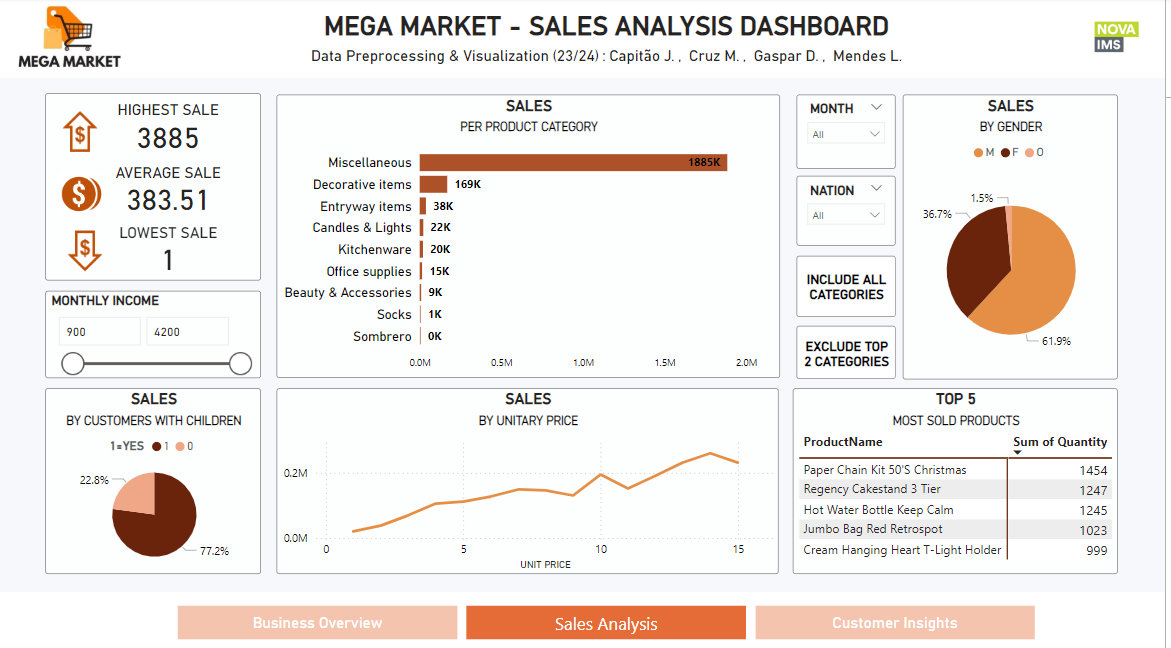

This screenshot's page, from the dashboard's own definition file:
{"tool":"powerbi","page":{"name":"Sales Analysis","canvas":[1280,720],"ordinal":1},"visuals":[{"type":"basicShape","box":[51.4,105.7,237.1,205.7],"z":0,"group":"g1"},{"type":"shape","box":[0,652.9,1280,67.1],"z":0},{"type":"shape","box":[0,0,1280,88.6],"z":1000},{"type":"pageNavigator","box":[195.7,668.6,942.9,37.1],"z":2000},{"type":"image","box":[1198.6,20,58.6,47.1],"z":3000},{"type":"image","box":[10,0,135.7,88.6],"z":4000},{"type":"group","id":"g1","title":"KPI","box":[51.4,105.7,237.1,205.7],"z":5000},{"type":"textbox","box":[145.7,10,1042.9,45.7],"z":6000},{"type":"textbox","box":[145.7,50,1042.9,35.7],"z":7000},{"type":"pieChart","title":"SALES","fields":{"Category":["Transactional_Table.IMP_Kids"],"Y":["Sum(Transactional_Table.Total_payed)"]},"box":[51.4,430,237.1,204.3],"z":8000},{"type":"slicer","fields":{"Values":["Transactional_Table (2).Nationality"]},"box":[875.4,196.8,108.6,77.1],"z":9000},{"type":"slicer","fields":{"Values":["Transactional_Table (2).Date.Variation.Date Hierarchy.Month"]},"box":[875.4,106.8,108.6,81.4],"z":10000},{"type":"slicer","title":"MONTHLY INCOME","fields":{"Values":["Transactional_Table (2).IMP_Monthly_Income"]},"box":[51.4,322.9,237.1,95.7],"z":11000},{"type":"card","title":"AVERAGE SALE","fields":{"Values":["Table.Avg_Transaction"]},"box":[94.7,183.2,182.5,56.3],"z":12000},{"type":"card","title":"LOWEST SALE","fields":{"Values":["Table.Min_Transaction"]},"box":[111.1,248.4,149.6,57.6],"z":13000},{"type":"card","title":"HIGHEST SALE","fields":{"Values":["Table.Max_Transaction"]},"box":[111.1,113.9,149.6,63.1],"z":14000},{"type":"pivotTable","title":"TOP 5","fields":{"Rows":["Transactional_Table (2).ProductName"],"Values":["Sum(Transactional_Table (2).Quantity)"]},"box":[871.4,430,357.1,204.3],"z":15000},{"type":"lineChart","title":"SALES","fields":{"Category":["Transactional_Table (2).Unit_Price"],"Y":["Sum(Transactional_Table (2).Total_payed)"]},"box":[305.3,429.3,551.4,204.3],"z":16000},{"type":"barChart","title":"SALES","fields":{"Category":["Transactional_Table (2).Product_Category_Name"],"Y":["Sum(Transactional_Table (2).Total_payed)"]},"box":[304.5,106.7,552.7,311],"z":17000},{"type":"actionButton","title":"jkffigi","box":[875.4,361.1,108.6,58.6],"z":18000},{"type":"actionButton","box":[875.4,284,108.6,67.1],"z":19000},{"type":"pieChart","title":"SALES","fields":{"Category":["Transactional_Table.Gender"],"Y":["Sum(Transactional_Table.Total_payed)"]},"box":[992.6,106.9,235.8,312.6],"z":20000},{"type":"image","box":[67.2,247.7,54.9,60.4],"z":21001},{"type":"image","box":[61.7,118,54.9,59],"z":21002},{"type":"image","box":[57.6,186.6,64.5,59],"z":21003}]}

Visuals, with their boxes in screenshot pixels (x1, y1, x2, y2), scaled from the page's 1280x720 canvas onto the 1171x648 screenshot:
basicShape: 47 95 264 280
shape: 0 588 1170 647
shape: 0 0 1170 80
pageNavigator: 179 602 1042 635
image: 1097 18 1150 60
image: 9 0 133 80
"KPI" group: 47 95 264 280
textbox: 133 9 1087 50
textbox: 133 45 1087 77
"SALES" pieChart: 47 387 264 571
slicer - Transactional_Table (2).Nationality: 801 177 900 247
slicer - Transactional_Table (2).Date.Variation.Date Hierarchy.Month: 801 96 900 169
"MONTHLY INCOME" slicer: 47 291 264 377
"AVERAGE SALE" card: 87 165 254 216
"LOWEST SALE" card: 102 224 238 275
"HIGHEST SALE" card: 102 103 238 159
"TOP 5" pivotTable: 797 387 1124 571
"SALES" lineChart: 279 386 784 570
"SALES" barChart: 279 96 784 376
"jkffigi" actionButton: 801 325 900 378
actionButton: 801 256 900 316
"SALES" pieChart: 908 96 1124 378
image: 61 223 112 277
image: 56 106 107 159
image: 53 168 112 221
